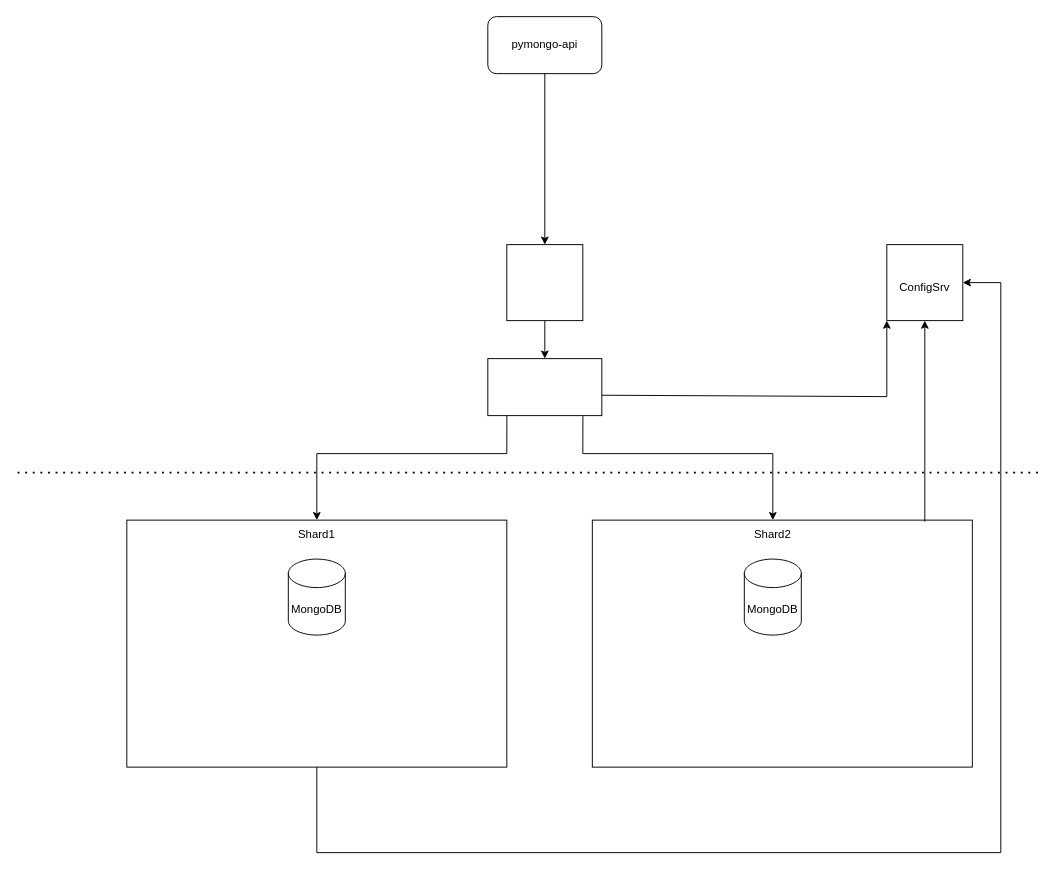
Some shapes in this 1061 by 877 pixel diagram are drawn without their labels. Here are the shapes that lost their labels. From the top down, the centre of each, then its label:
the point at 544,282: Driver
the point at 544,387: Mongos_router
